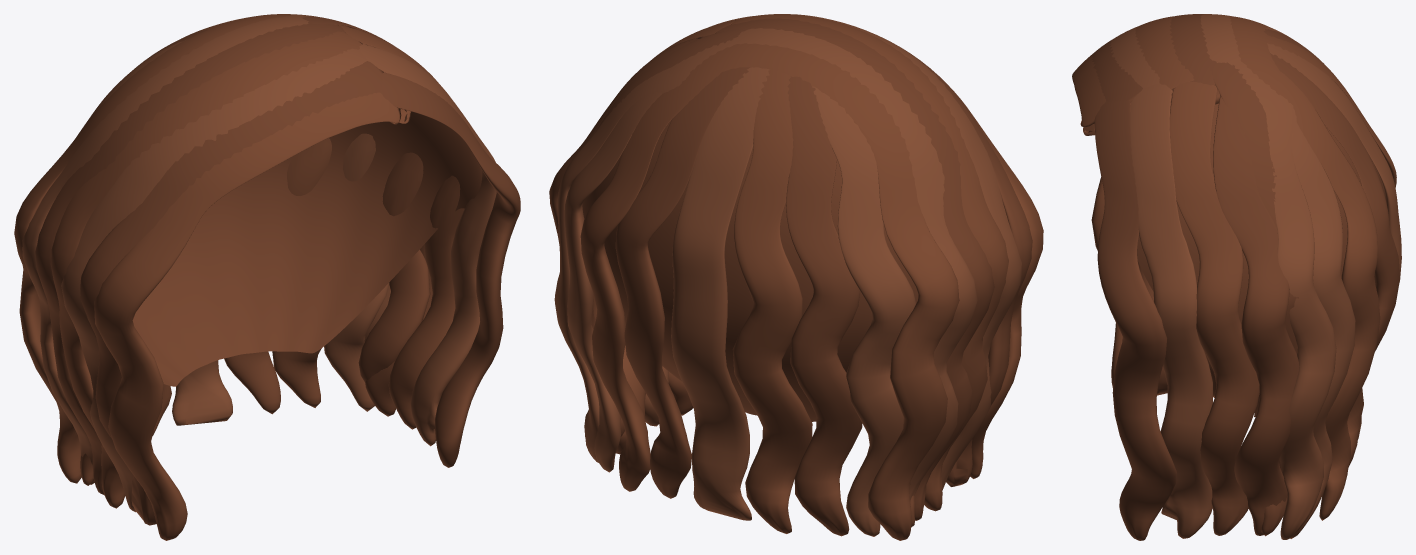
Rendered from Feminine-curls-beanie261-hair.glb.
3 renders of one model, left to right at view 1: azimuth 30°, elevation 25°; view 2: azimuth 150°, elevation 25°; view 3: azimuth 270°, elevation 25°, orthographic. The views are drawn at different scales.
Visible parts, largest first — view 1: 226 hair / Hair / sculpted 0.001, 226 hair / Hair / sculpted 1.001, 226 hair / Hair / sculpted 1.002, 226 hair / Hair / sculpted 2.001; view 2: 226 hair / Hair / sculpted 2.001, 226 hair / Hair / sculpted 0.001, 226 hair / Hair / sculpted 1.002, 226 hair / Hair / sculpted 1.001; view 3: 226 hair / Hair / sculpted 1.002, 226 hair / Hair / sculpted 2.001, 226 hair / Hair / sculpted 0.001, 226 hair / Hair / sculpted 1.001.
Boxes of the visible parts, x1,y1,x2,y2 form: 226 hair / Hair / sculpted 0.001: (14, 14, 464, 540); 226 hair / Hair / sculpted 1.001: (132, 29, 482, 386); 226 hair / Hair / sculpted 1.002: (35, 16, 520, 525); 226 hair / Hair / sculpted 2.001: (22, 14, 496, 512); 226 hair / Hair / sculpted 2.001: (554, 14, 1021, 536); 226 hair / Hair / sculpted 0.001: (580, 14, 1043, 540); 226 hair / Hair / sculpted 1.002: (549, 18, 1032, 536); 226 hair / Hair / sculpted 1.001: (582, 38, 918, 421); 226 hair / Hair / sculpted 1.002: (1091, 14, 1399, 540); 226 hair / Hair / sculpted 2.001: (1109, 14, 1401, 539); 226 hair / Hair / sculpted 0.001: (1072, 16, 1396, 535); 226 hair / Hair / sculpted 1.001: (1137, 81, 1382, 416).
Size of the model in its own units: 1.08 by 1.07 by 0.7335.
